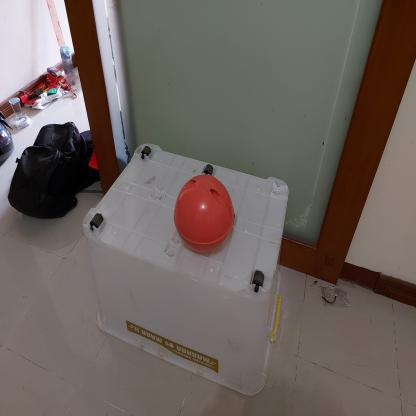red_buoy: (169, 172, 240, 260)
